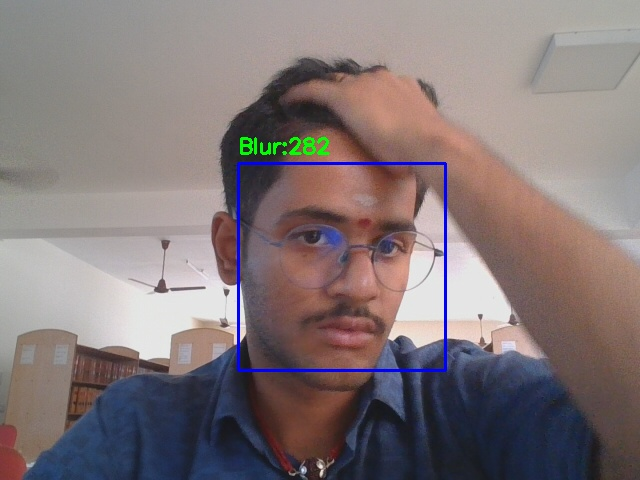real: (238, 163, 445, 370)
